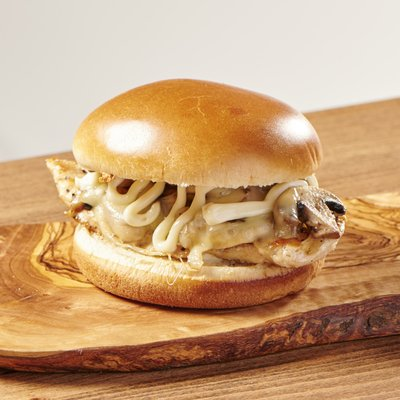soup: (48, 77, 344, 312)
